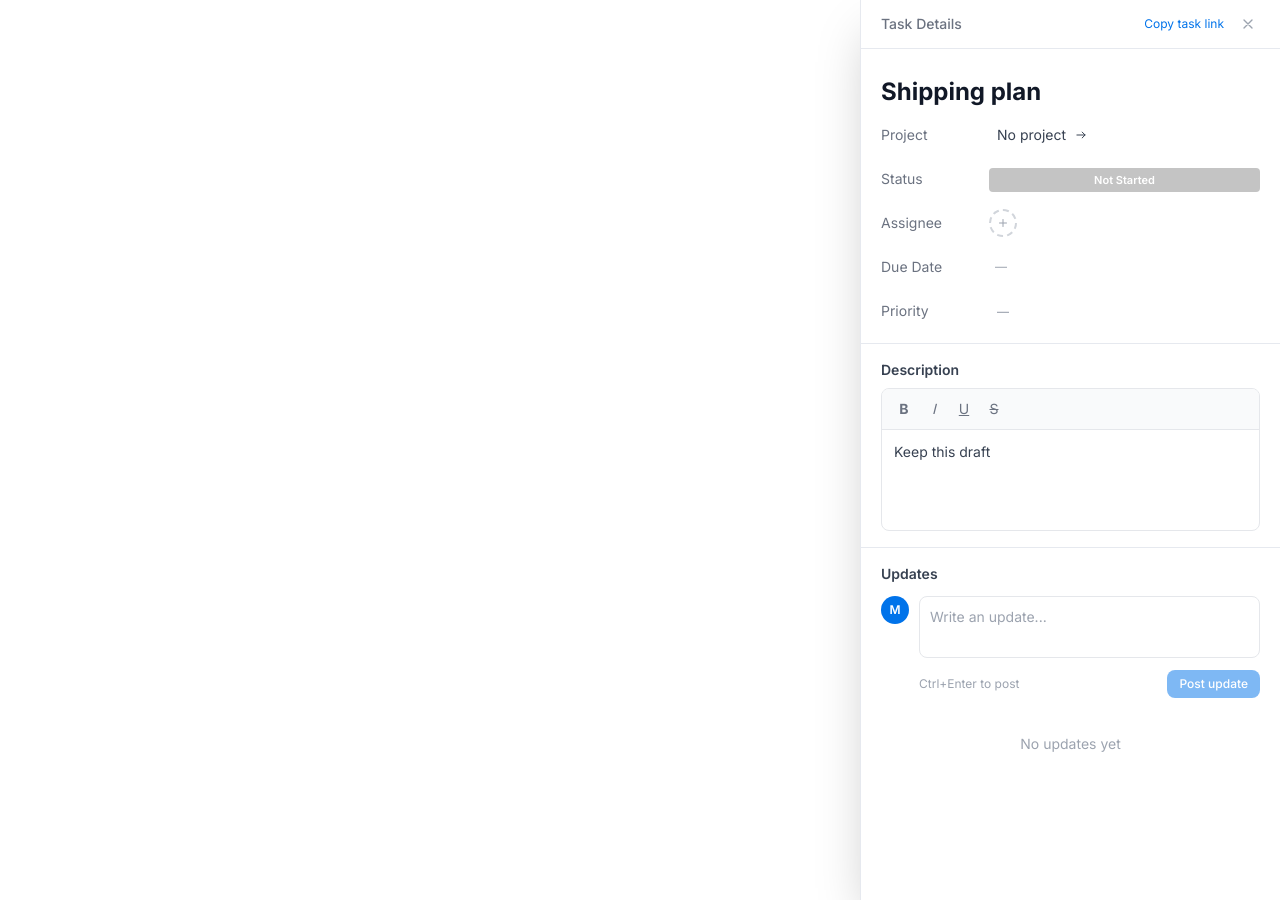
Test: task editor accessibility and confirmed save feedback › keeps a failed description visible, announces the failure, and permits retry
Clear the field named "Description for \"Shipping plan\"": (942, 452) top-left (894, 443), bottom-right (990, 460)
Wait 800 ms
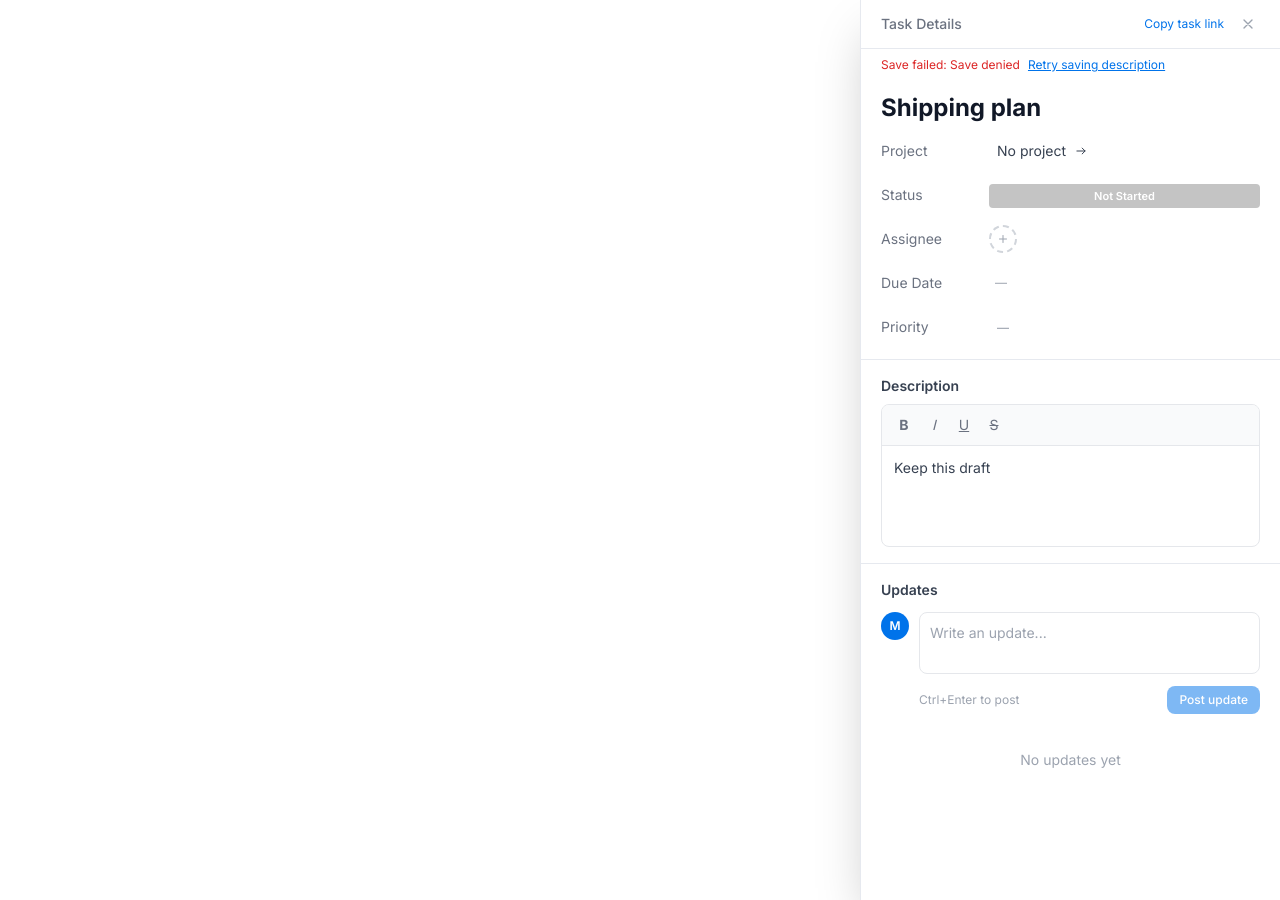
Result: the text "Save failed: Save denied" is shown at top-left (881, 57), bottom-right (1020, 72)
Click the button "Retry saving description": (1097, 65) top-left (1028, 57), bottom-right (1165, 73)
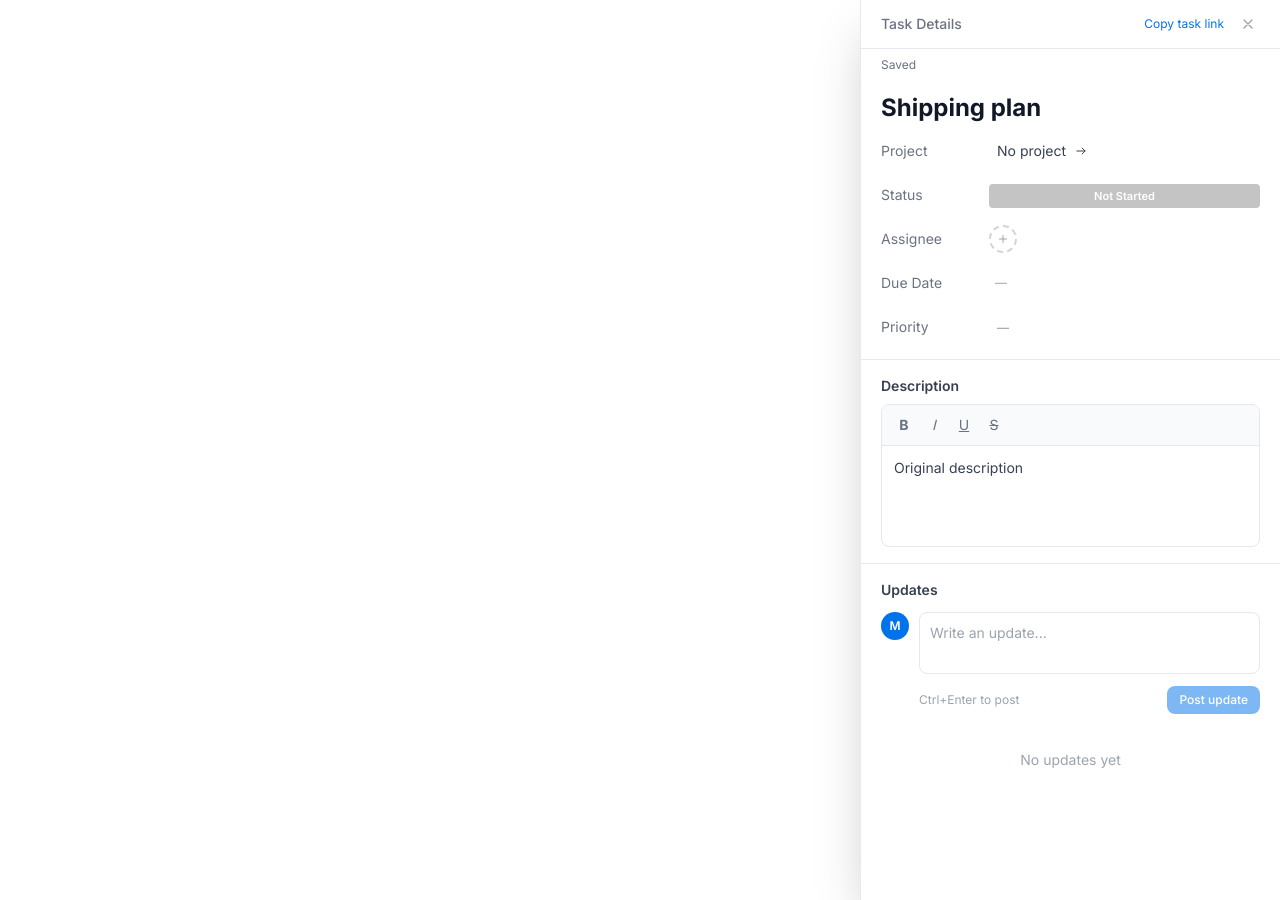
Result: the text "Saved" is shown at top-left (881, 57), bottom-right (916, 72)
